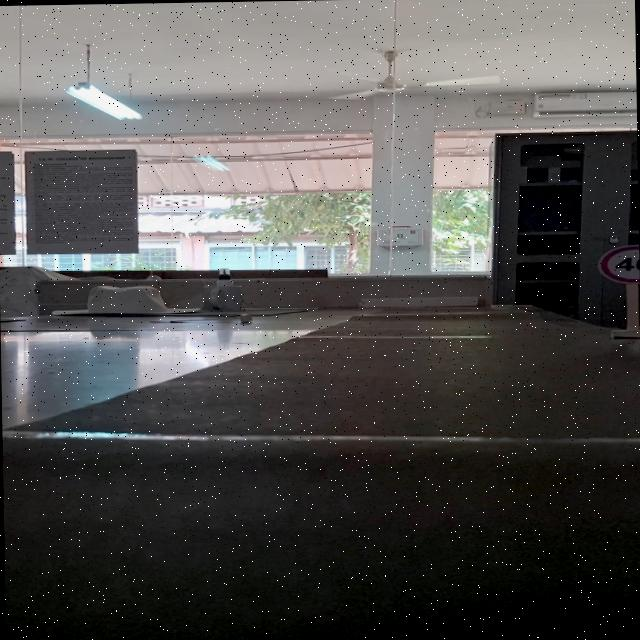Speed40: (596, 242, 640, 288)
